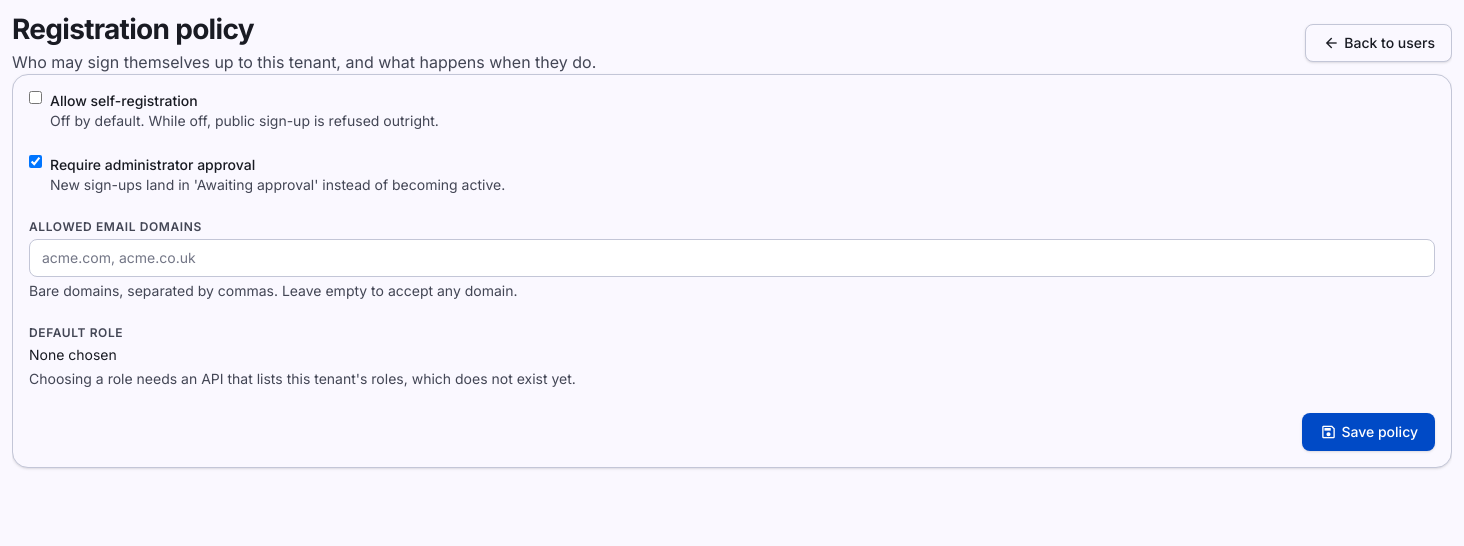
Scenario: SelfRegistrationSettingsPage › renders a save failure from its code, not the server message
Click the button "Save policy": click(1369, 432) x1=1302 y1=413 x2=1435 y2=451
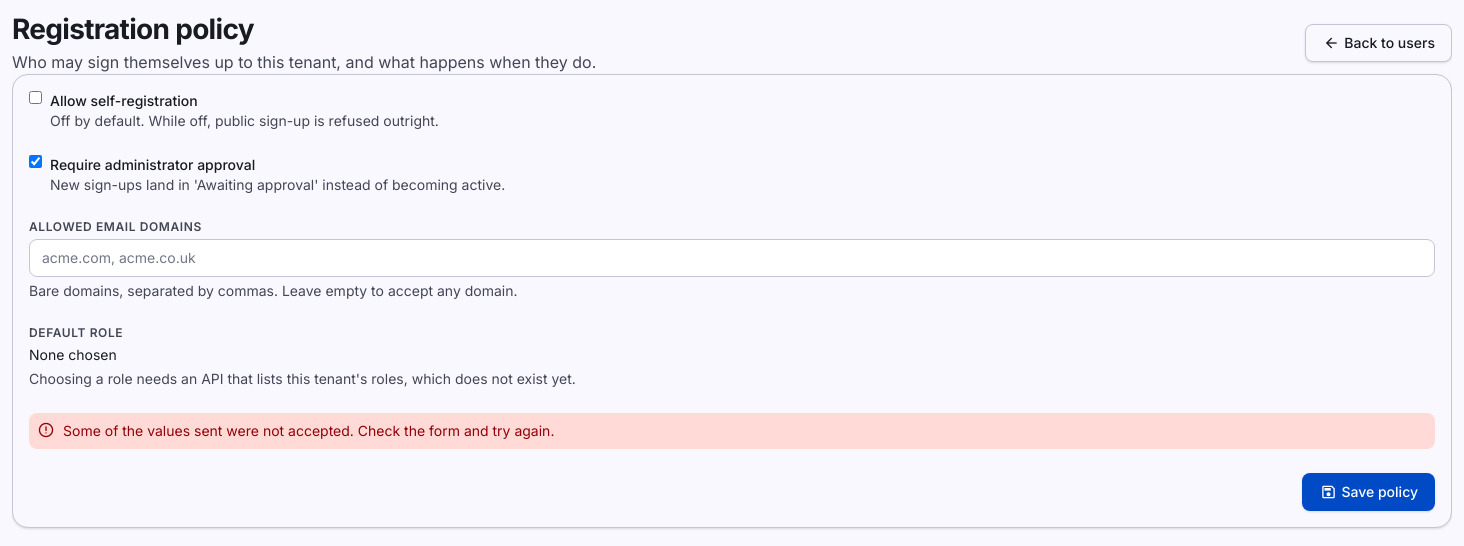
Expected: the text "Some of the values sent were not accepted. Check the form and try again." is shown, x1=63 y1=421 x2=554 y2=441
